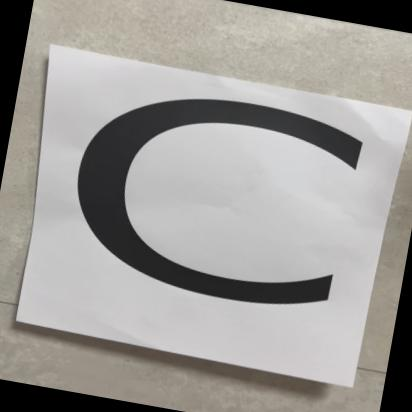seat: (0, 35, 412, 390)
